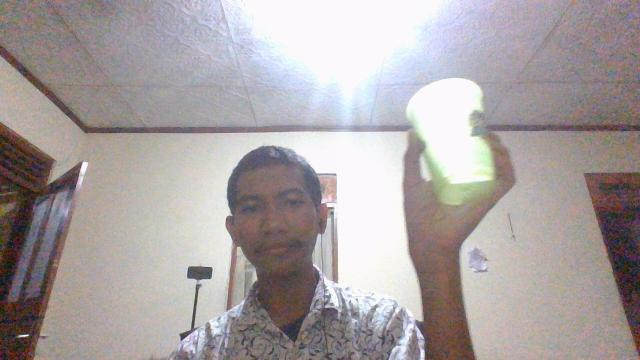botol-hijau: (398, 72, 505, 208)
